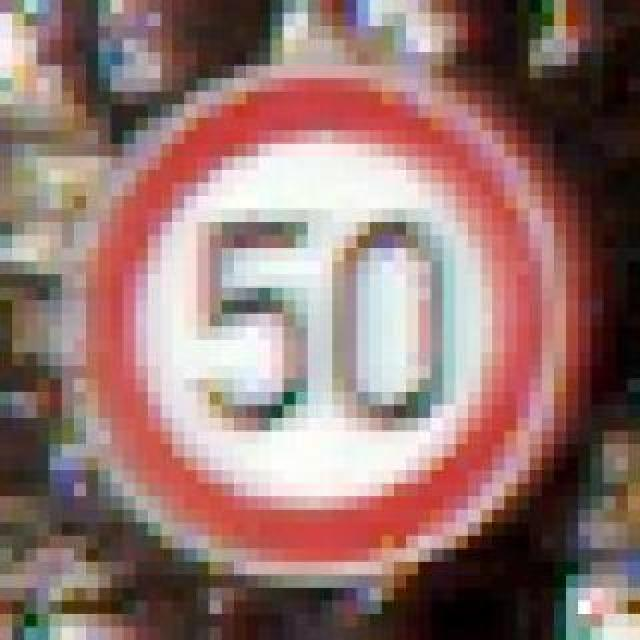50 kph: (50, 38, 554, 562)
